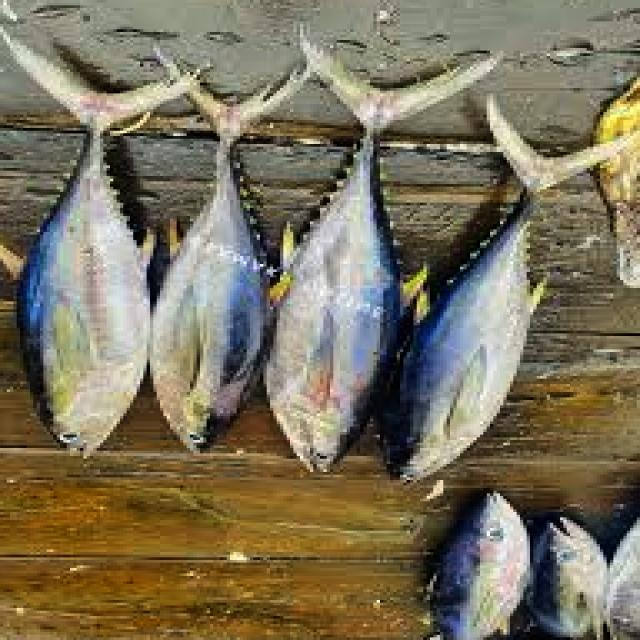Tuna: (0, 36, 197, 455)
